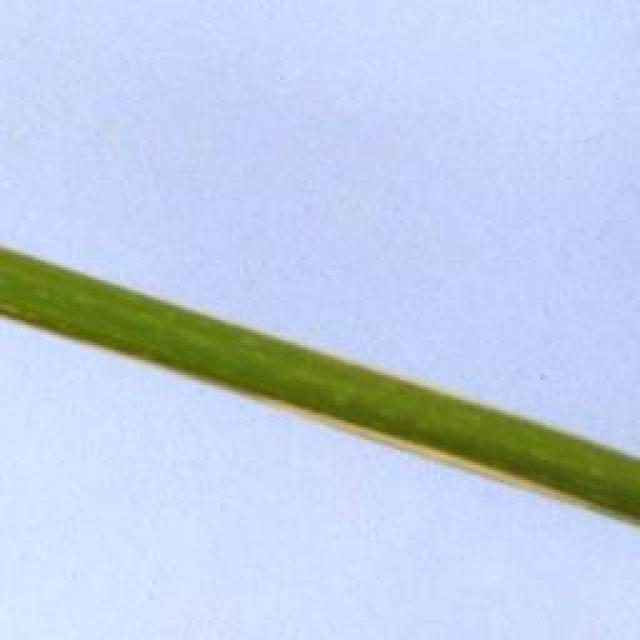Bacterial_Blight: (254, 392, 604, 516), (200, 317, 532, 419)
